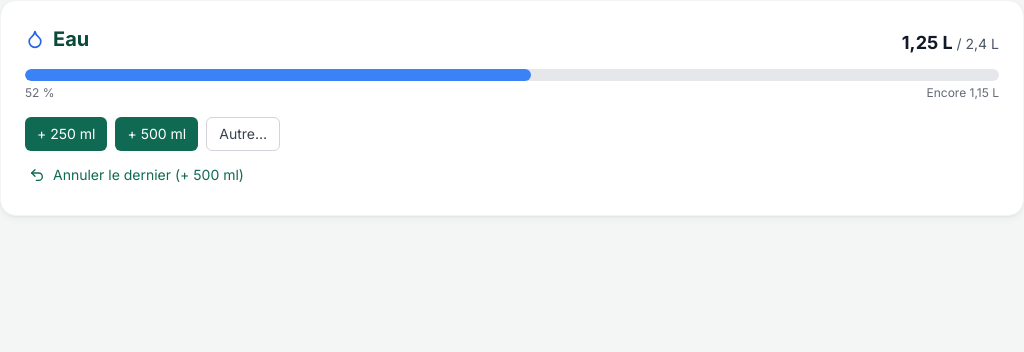
WaterCard › ajoute une quantité libre et refuse une quantité invalide
Expected: the text "1,25 L" is shown, [902, 32, 953, 53]
Click the button "Autre…" at x=243, y=134, box [206, 117, 280, 151]
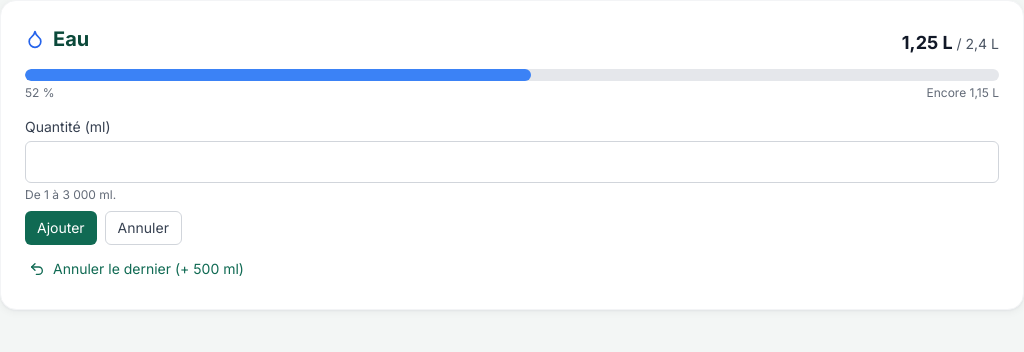
Type "0" into the number field labelled "Quantité (ml)" at x=512, y=162, box [25, 141, 999, 183]
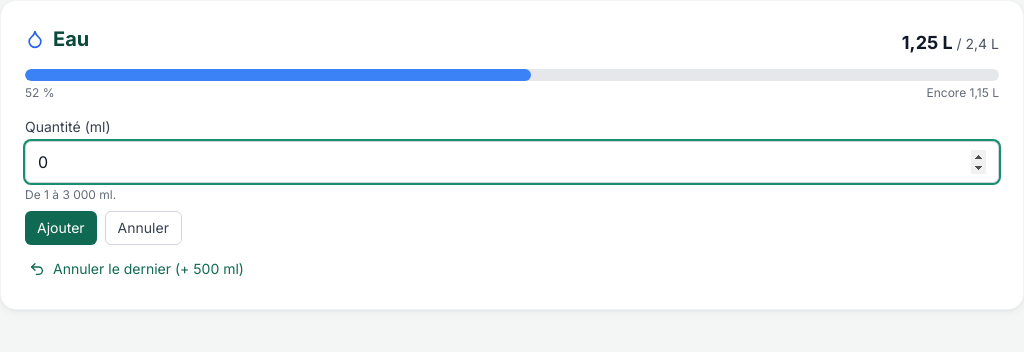
Click the button "Ajouter" at x=61, y=228, box [25, 211, 97, 245]
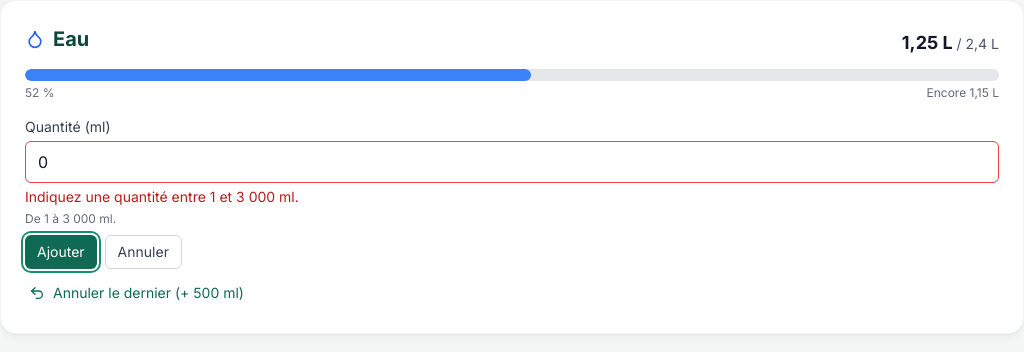
Result: the text "Indiquez une quantité entre 1 et 3 000 ml." is shown at [25, 188, 299, 205]
Replace the text in the number field labelled "Quantité (ml)" with "330" at x=512, y=162, box [25, 141, 999, 183]
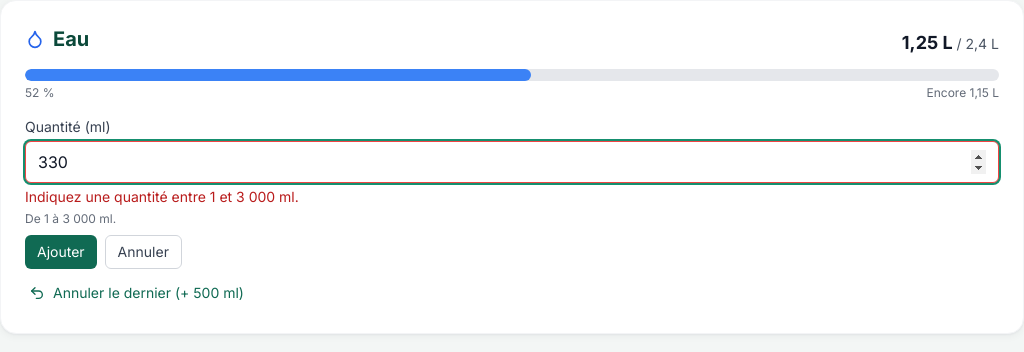
Click the button "Ajouter" at x=61, y=252, box [25, 235, 97, 269]
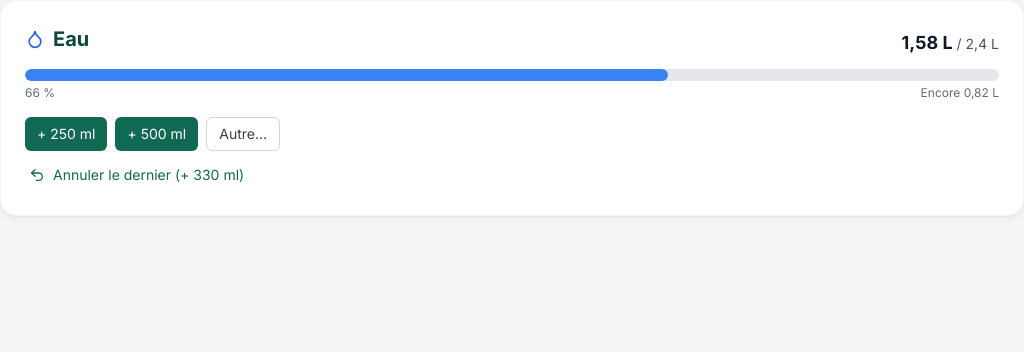
Result: the text "1,58 L" is shown at [902, 32, 953, 53]
Result: the label labelled "Quantité (ml)" is gone
